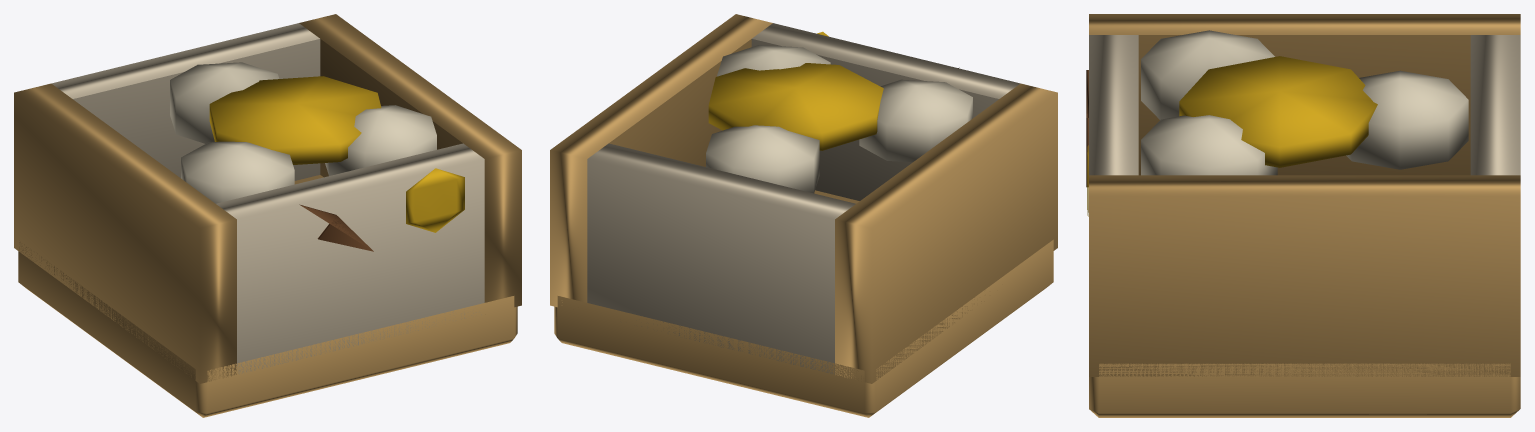
Rendered from cargo_eggs_broken.glb.
3 renders of one model, left to right at view 1: azimuth 30°, elevation 25°; view 2: azimuth 150°, elevation 25°; view 3: azimuth 270°, elevation 25°, orthographic. The views are drawn at different scales.
Visible parts, largest first — view 1: cargo_eggs_broken; view 2: cargo_eggs_broken; view 3: cargo_eggs_broken.
Part boxes in pixels (x1,y1,x2,y2): cargo_eggs_broken: (14,14,521,417); cargo_eggs_broken: (550,14,1057,417); cargo_eggs_broken: (1086,14,1520,417).
Size of the model in its own units: 0.52 by 0.335 by 0.523.
